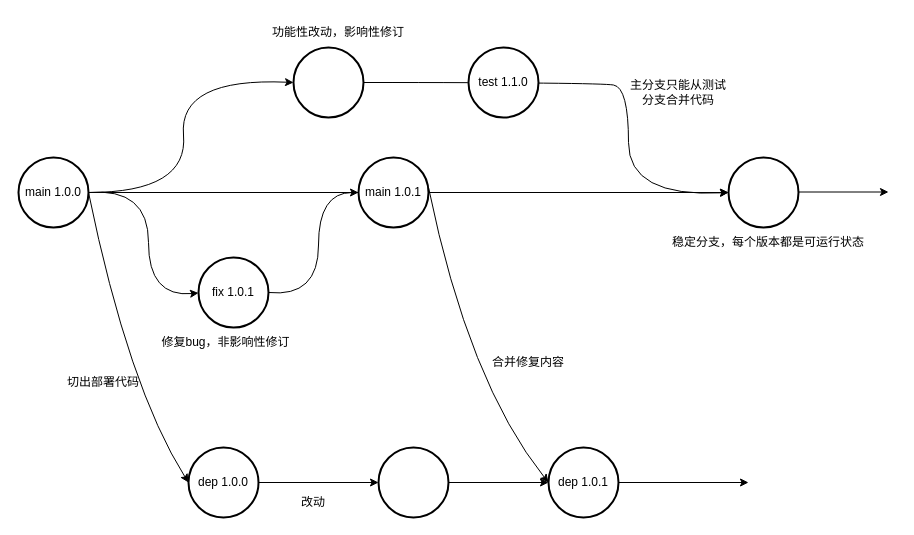
This 914x535 diagram has some shape labels left out. Each missing label, with the box of its shape:
dep 1.0.0+: (377, 446, 449, 518)
dev 1.1.0: (292, 46, 364, 118)
main 1.1.0: (727, 156, 799, 228)
